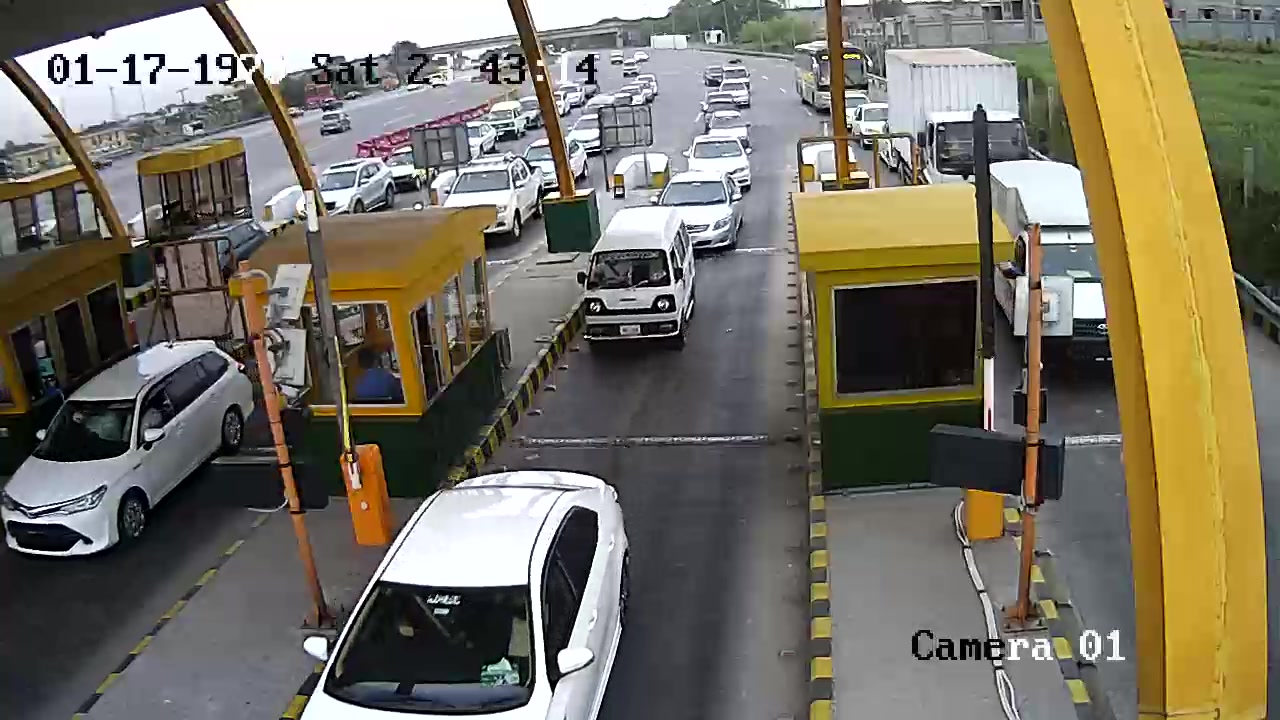F1: (575, 200, 703, 365)
